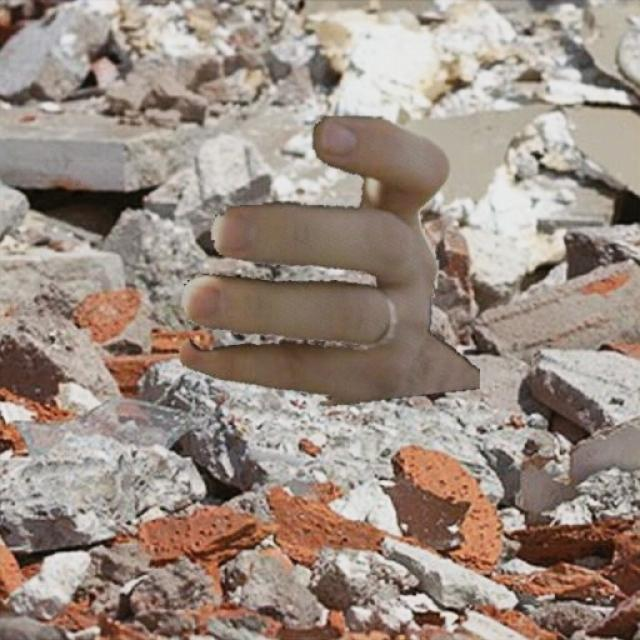Person in Rubble: (179, 116, 479, 405)
